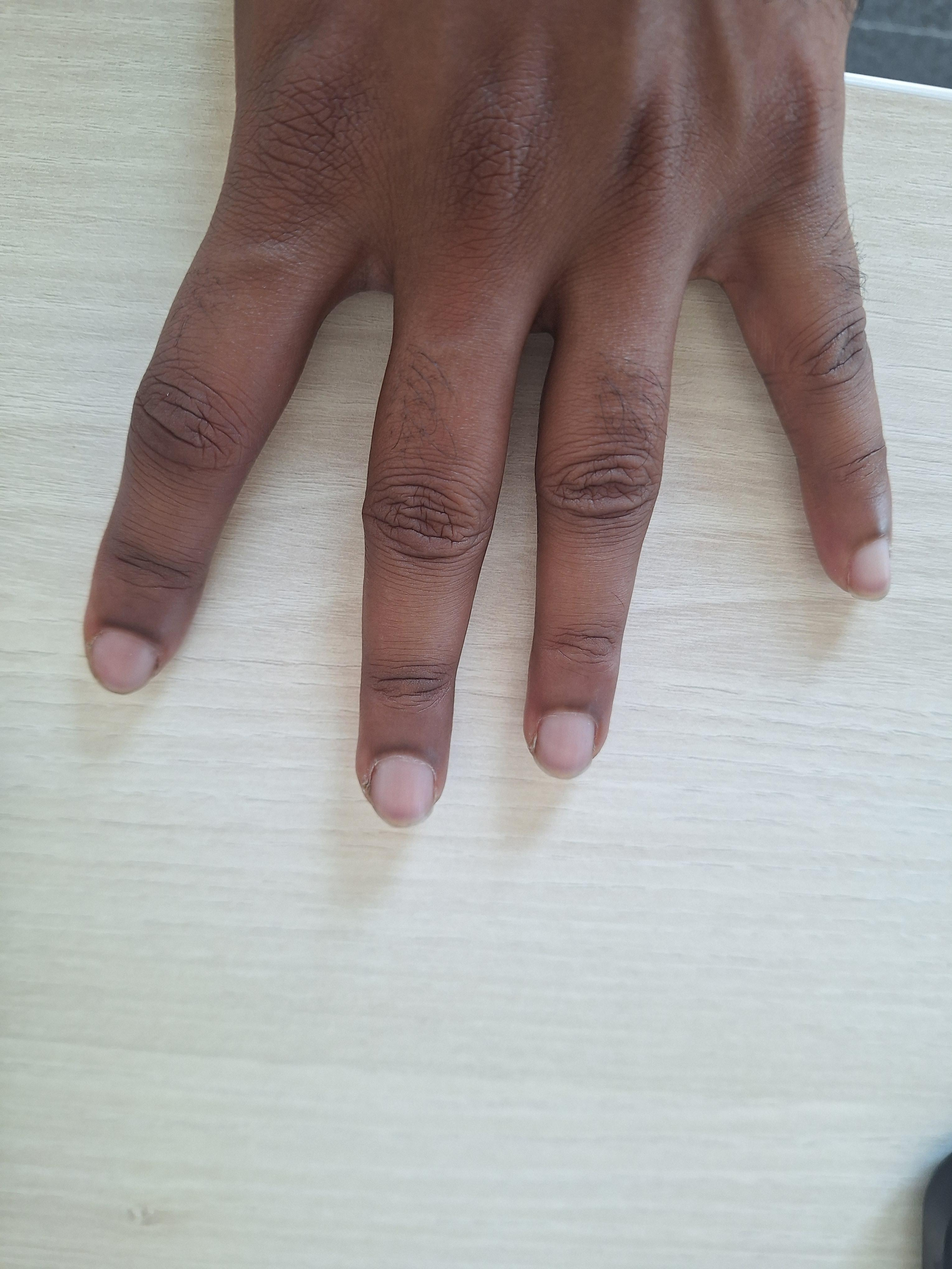Fingernail: (371, 756, 435, 829), (91, 633, 158, 695), (534, 713, 595, 781), (848, 537, 891, 601)
